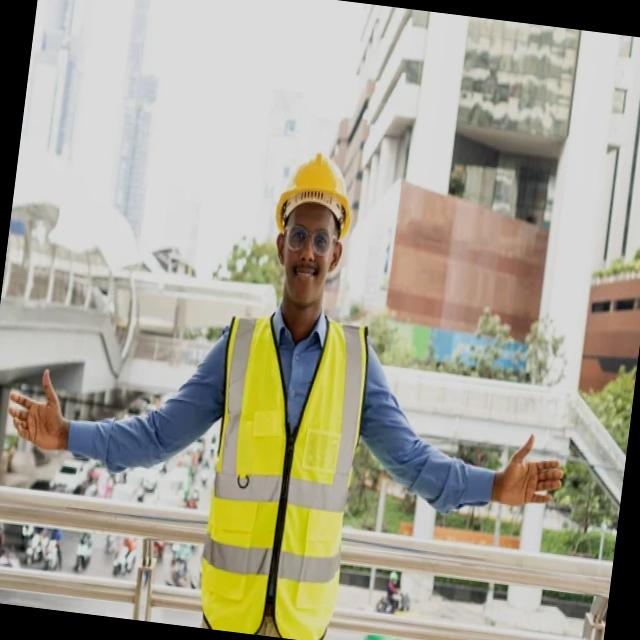goggles: (276, 214, 341, 259)
helmet: (266, 138, 368, 225)
vest: (190, 299, 380, 632)
